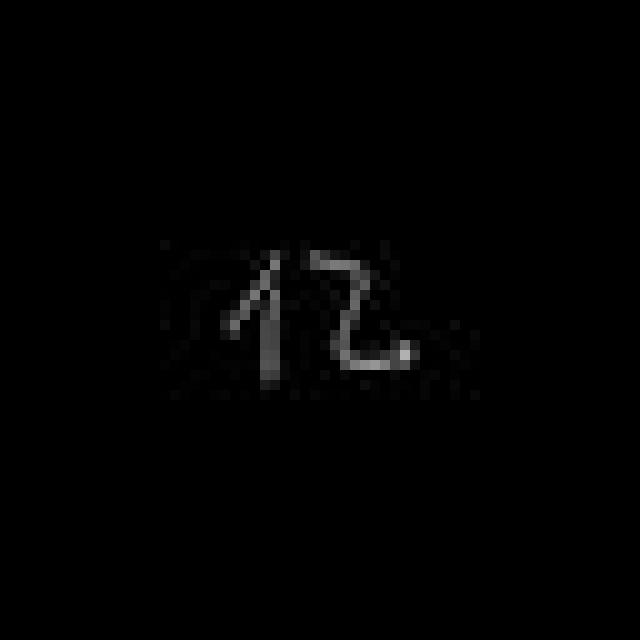100000 -a hundred thousand-: (210, 241, 419, 384)
